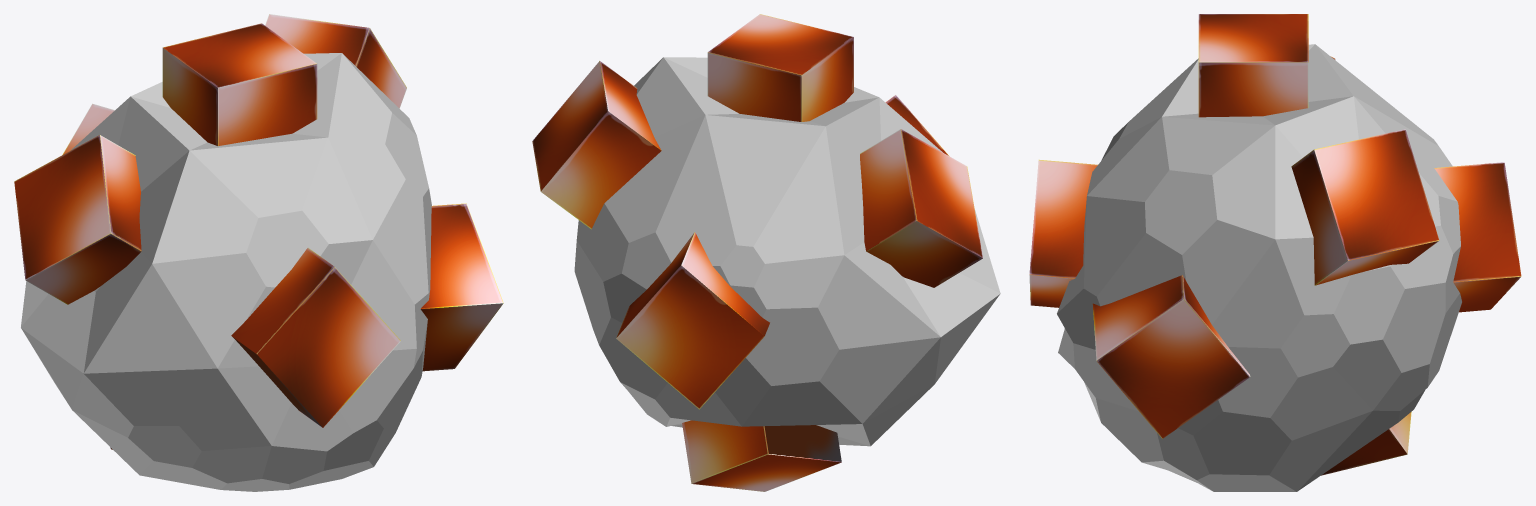
The model's file is Asteroid_copper.fbx.
3 views of the same model, side by side, from view 1: azimuth 30°, elevation 25°; view 2: azimuth 150°, elevation 25°; view 3: azimuth 270°, elevation 25° (orthographic). The views are drawn at different scales.
Visible parts, largest first — view 1: Icosphere; view 2: Icosphere; view 3: Icosphere.
Part boxes in pixels (<box>): Icosphere: <box>14,14,503,491</box>; Icosphere: <box>532,14,1000,491</box>; Icosphere: <box>1029,14,1521,491</box>.
Size of the model in its own units: 90 by 90 by 90.
